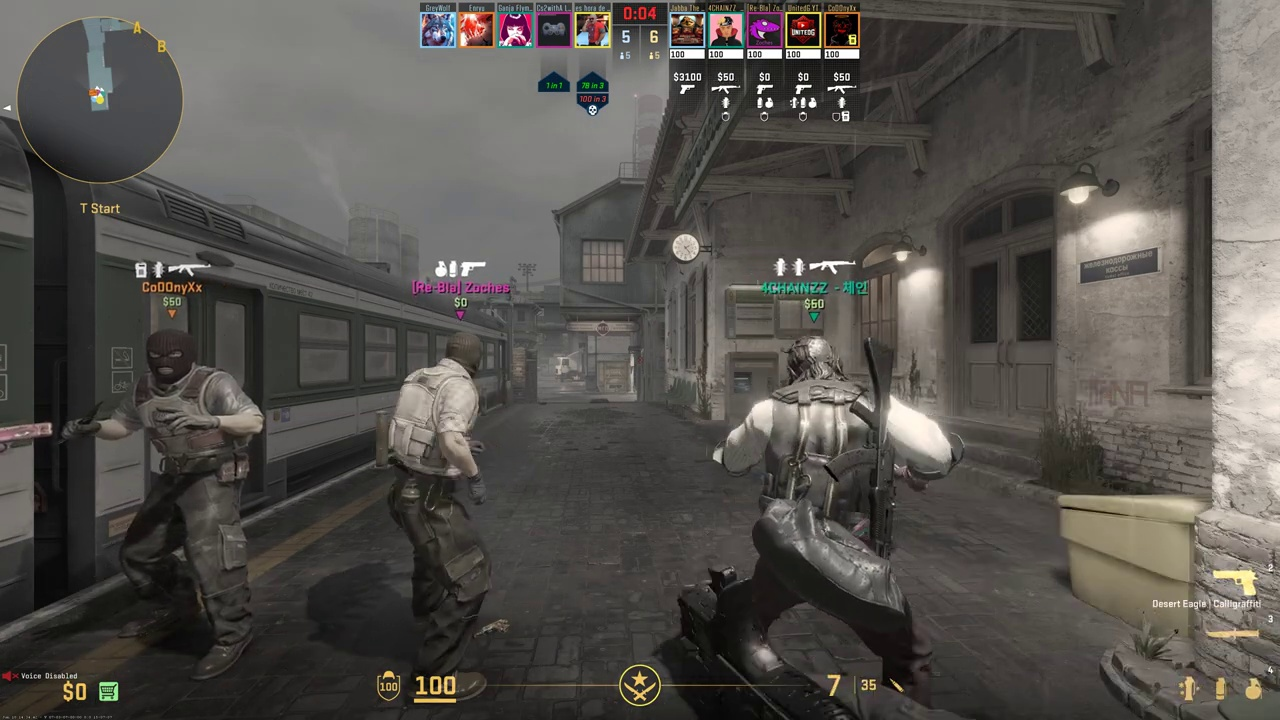Terrorist: (749, 336, 927, 664), (125, 328, 265, 663), (393, 332, 510, 695)
